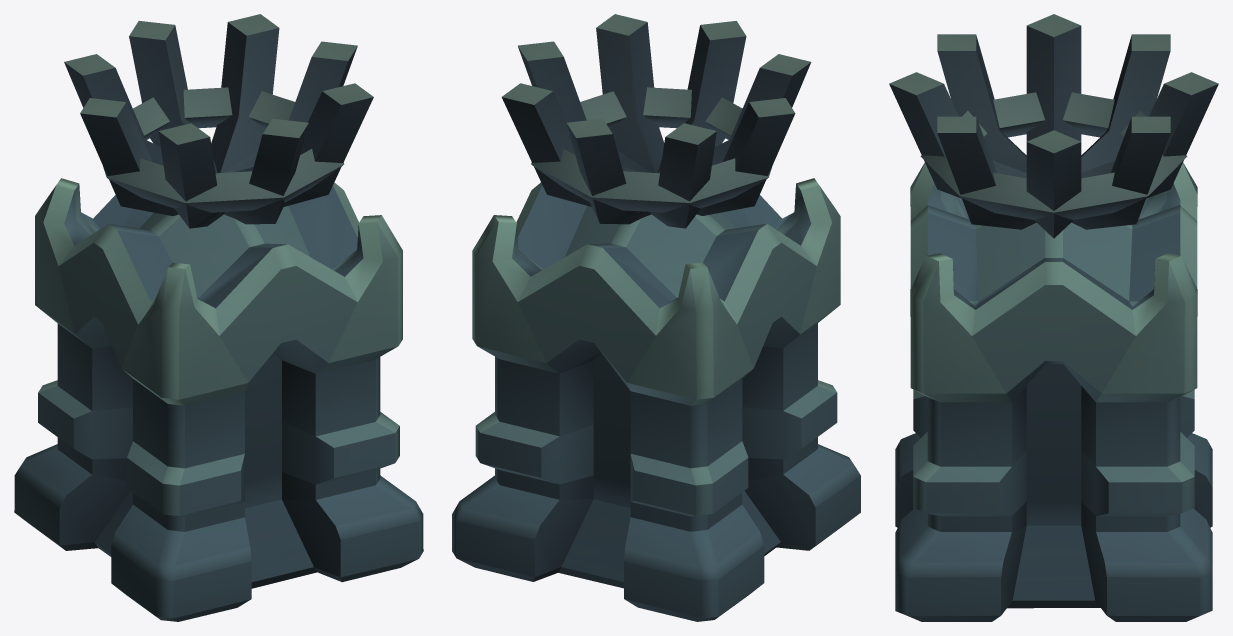
The model's file is torch_2.fbx.
3 views of the same model, side by side, from view 1: azimuth 30°, elevation 25°; view 2: azimuth 150°, elevation 25°; view 3: azimuth 270°, elevation 25° (orthographic). The views are drawn at different scales.
Parts seen in each view (by area): view 1: torch_2; view 2: torch_2; view 3: torch_2.
Part boxes in pixels (x1,y1,x2,y2): torch_2: [14, 14, 423, 621]; torch_2: [452, 14, 860, 621]; torch_2: [889, 14, 1218, 621].
Bounding box in the file's own units: 130 × 207 × 130.
